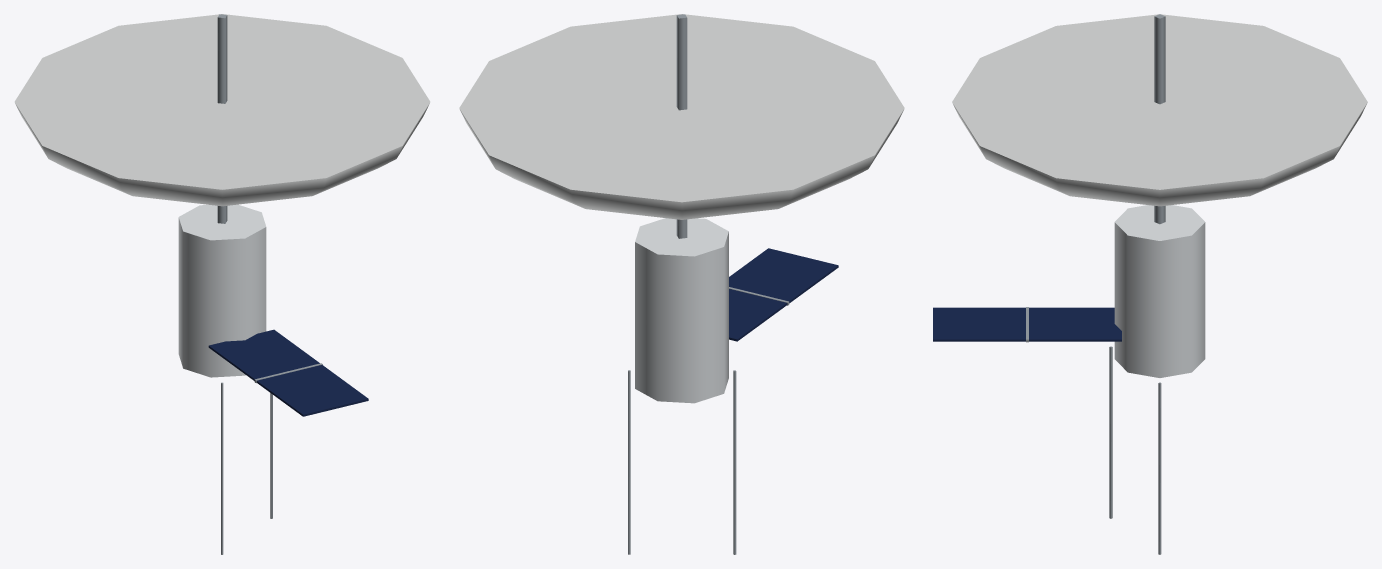
File: space_orbital_radar_t1.glb
3 renders of one model, left to right at view 1: azimuth 30°, elevation 25°; view 2: azimuth 150°, elevation 25°; view 3: azimuth 270°, elevation 25°, orthographic. The views are drawn at different scales.
Parts seen in each view (by area): view 1: dish, body, solar_0; view 2: dish, body, solar_0; view 3: dish, body, solar_0.
Boxes of the visible parts, x1,y1,x2,y2 form: dish: [14, 14, 430, 223]; body: [178, 204, 272, 554]; solar_0: [208, 329, 368, 416]; dish: [459, 14, 904, 238]; body: [628, 218, 736, 554]; solar_0: [729, 248, 838, 341]; dish: [952, 14, 1367, 224]; body: [1109, 205, 1205, 554]; solar_0: [933, 307, 1121, 342].
Size of what is drawn, in the model's own units: 11 by 15 by 11.5.
